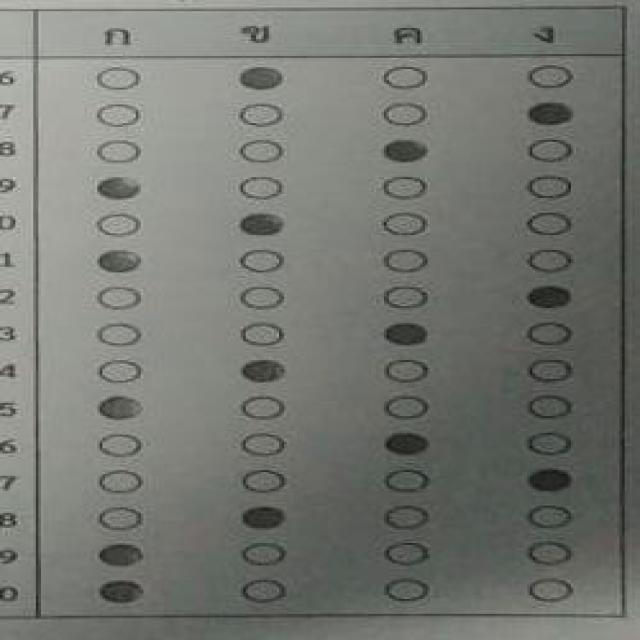a: (39, 572, 626, 614), (35, 387, 621, 426), (39, 240, 619, 276), (37, 171, 628, 204), (39, 538, 623, 569)
b: (39, 496, 621, 536), (37, 56, 619, 92), (39, 355, 623, 387), (39, 206, 621, 237)
c: (37, 313, 625, 352), (39, 132, 626, 166), (39, 431, 628, 462)
d: (39, 276, 617, 312), (41, 96, 624, 130), (37, 462, 625, 493)
